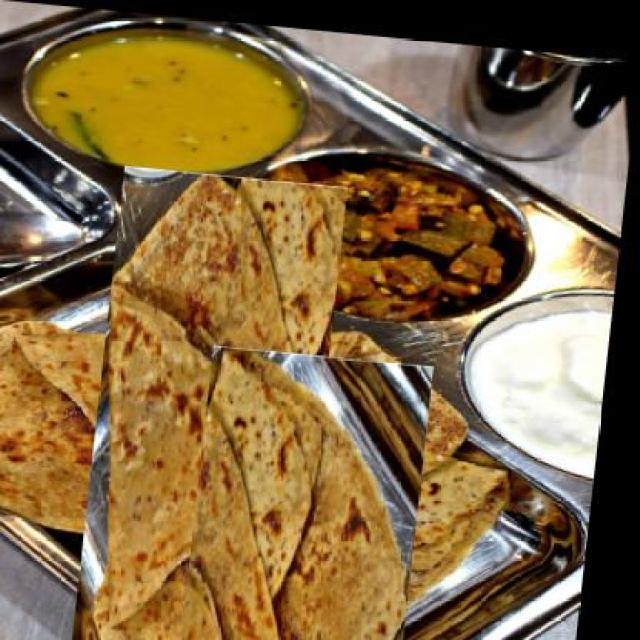chapati: (20, 229, 418, 625), (149, 380, 485, 638)
